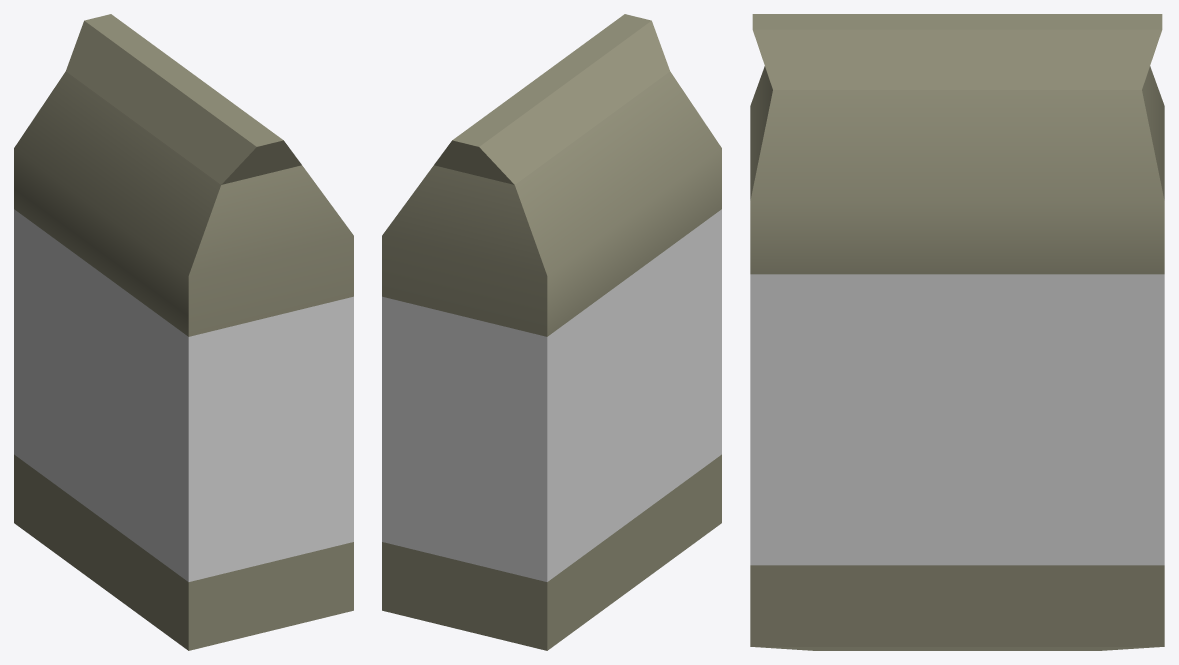
File: sugar_white.fbx
3 renders of one model, left to right at view 1: azimuth 30°, elevation 25°; view 2: azimuth 150°, elevation 25°; view 3: azimuth 270°, elevation 25°, orthographic. The views are drawn at different scales.
Parts seen in each view (by area): view 1: sugar_white7; view 2: sugar_white7; view 3: sugar_white7.
Boxes of the visible parts, x1,y1,x2,y2 form: sugar_white7: (14,14,353,650); sugar_white7: (382,14,721,650); sugar_white7: (750,14,1164,650).
Size of the model in its own units: 0.0514 by 0.1515 by 0.094.
